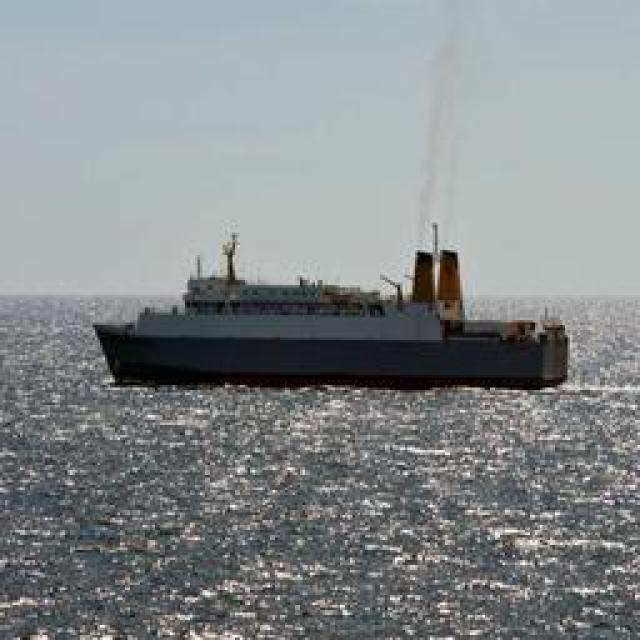Ship: (96, 231, 566, 394)
